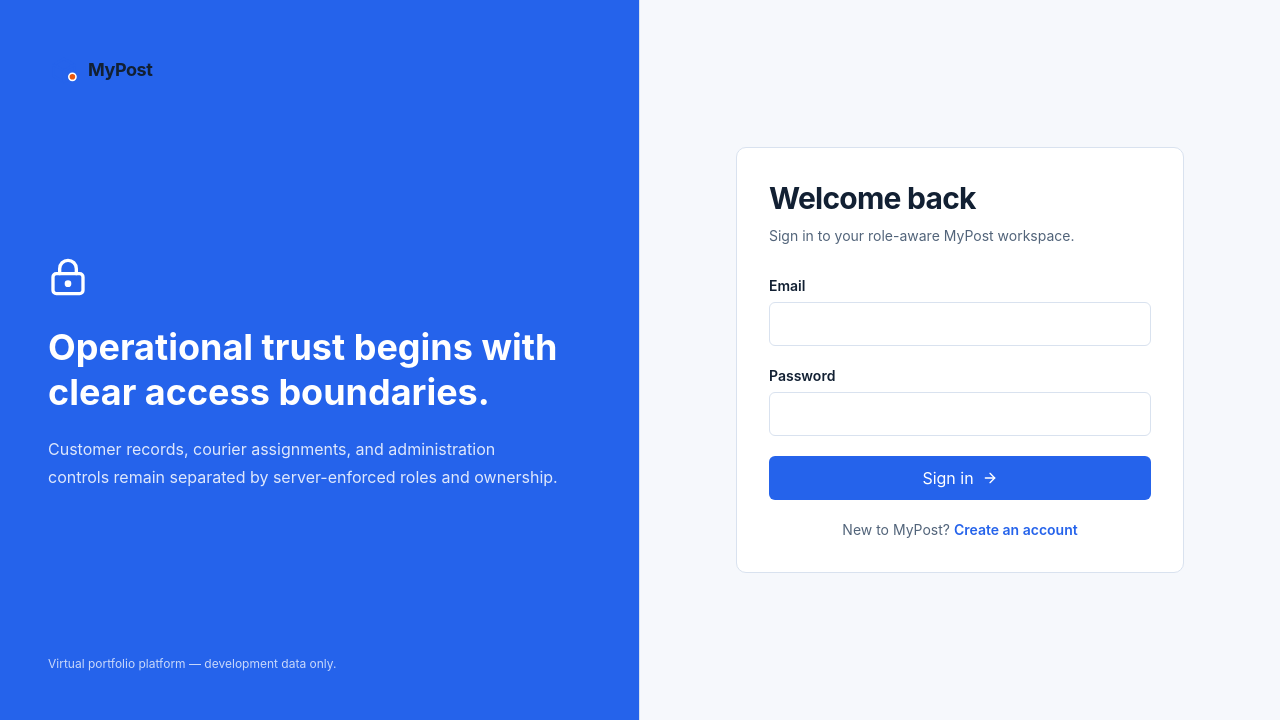
Test: LoginPage › shows inline validation and does not submit invalid credentials
Click the button "Sign in" at (960, 478), box [769, 456, 1151, 500]
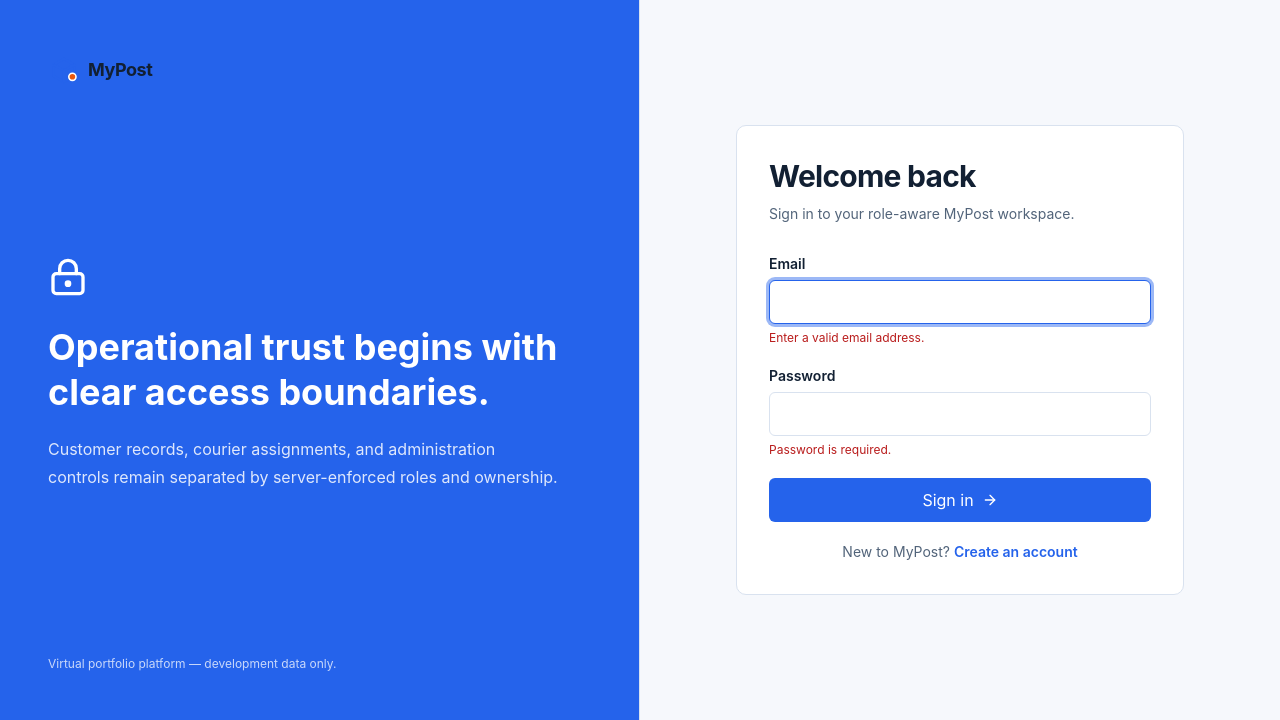
Expected: the text "Enter a valid email address." is shown, [769, 330, 924, 345]
Expected: the text "Password is required." is shown, [769, 442, 891, 457]
